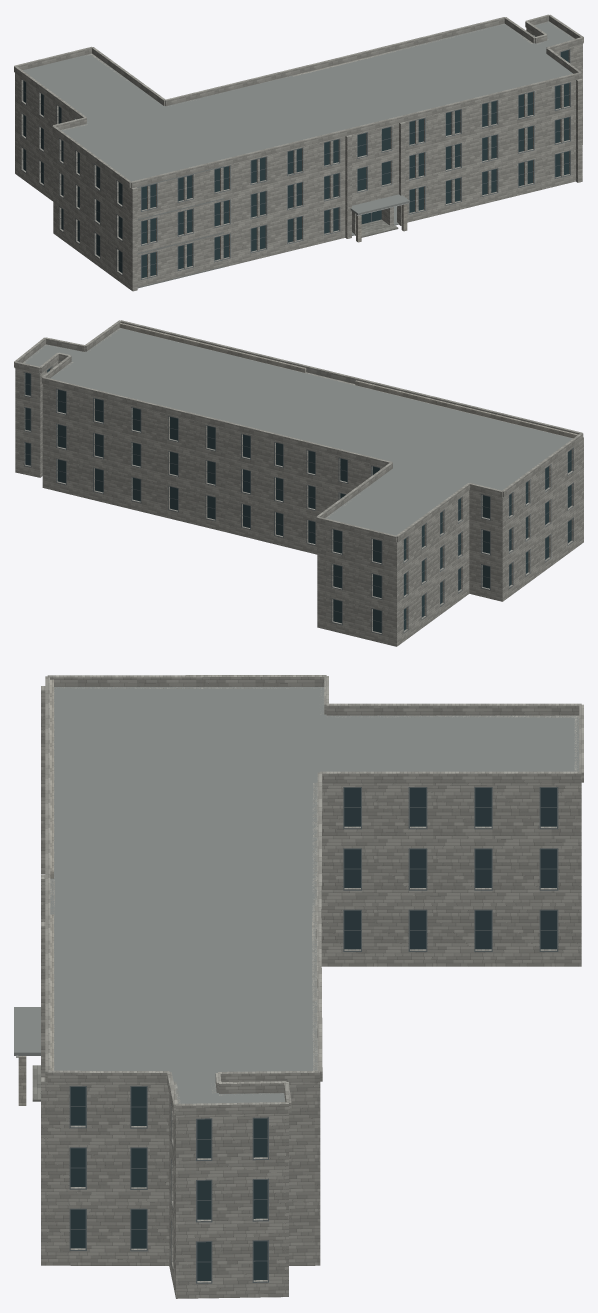
3 views of the same model, one above another, from view 1: azimuth 30°, elevation 25°; view 2: azimuth 150°, elevation 25°; view 3: azimuth 270°, elevation 25° (orthographic). The views are drawn at different scales.
Parts seen in each view (by area): view 1: educationMain__stone, educationMain__roof, educationMain__glass, educationMain__frame, educationMain__rough; view 2: educationMain__stone, educationMain__roof, educationMain__glass, educationMain__frame, educationMain__cream; view 3: educationMain__roof, educationMain__stone, educationMain__glass, educationMain__frame, educationMain__cream.
Part boxes in pixels (x1,y1,x2,y2): educationMain__stone: [14, 14, 583, 291]; educationMain__roof: [23, 21, 574, 288]; educationMain__glass: [23, 36, 569, 278]; educationMain__frame: [21, 34, 570, 279]; educationMain__rough: [355, 219, 398, 237]; educationMain__stone: [14, 320, 583, 646]; educationMain__roof: [23, 328, 572, 535]; educationMain__glass: [25, 369, 571, 632]; educationMain__frame: [24, 366, 573, 634]; educationMain__cream: [119, 323, 578, 438]; educationMain__roof: [14, 687, 579, 1103]; educationMain__stone: [41, 675, 583, 1298]; educationMain__glass: [70, 788, 556, 1280]; educationMain__frame: [69, 787, 558, 1283]; educationMain__cream: [18, 679, 53, 1105].
Size of the model in its own units: 60.22 by 12.65 by 33.68.
7 materials, 3 textured.
